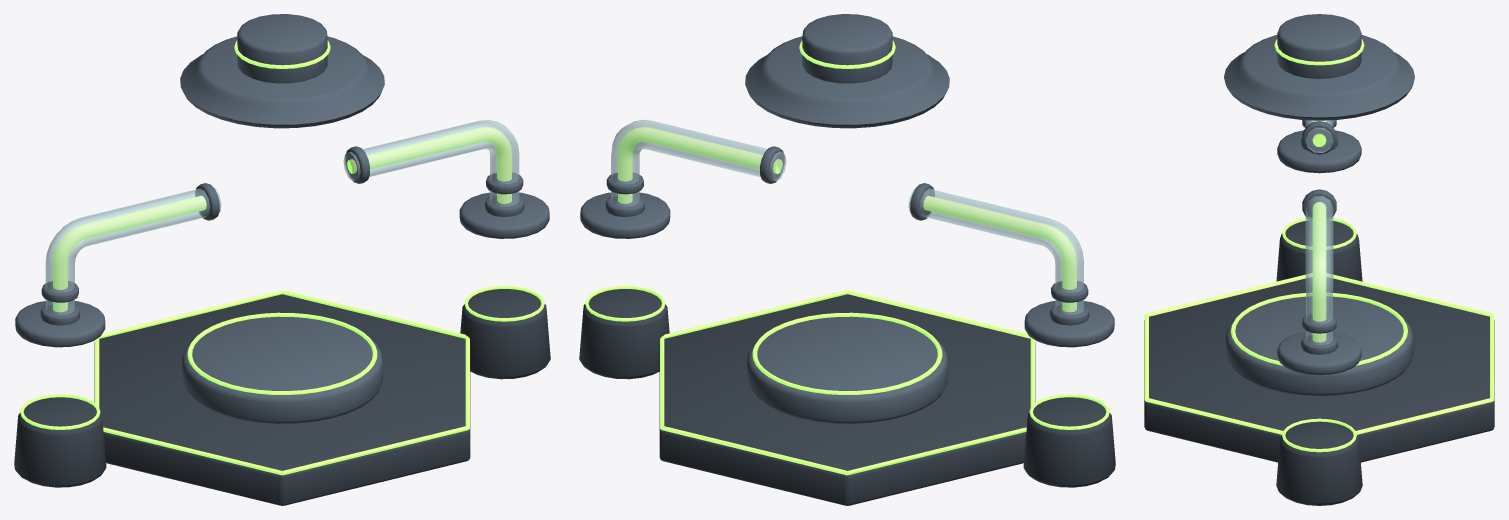
The model's file is MaquinaEquipo.fbx.
3 renders of one model, left to right at view 1: azimuth 30°, elevation 25°; view 2: azimuth 150°, elevation 25°; view 3: azimuth 270°, elevation 25°, orthographic. The views are drawn at different scales.
Parts seen in each view (by area): view 1: MaquinaEquipo_Base, MaquinaEquipo_Metal, MaquinaEquipo_Luces_Neon, MaquinaEquipo_Tubos_Vidrio; view 2: MaquinaEquipo_Base, MaquinaEquipo_Metal, MaquinaEquipo_Luces_Neon, MaquinaEquipo_Tubos_Vidrio; view 3: MaquinaEquipo_Base, MaquinaEquipo_Metal, MaquinaEquipo_Luces_Neon, MaquinaEquipo_Tubos_Vidrio.
Boxes of the visible parts, left/top/right/bottom form: MaquinaEquipo_Base: left=14, top=289, right=550, bottom=505; MaquinaEquipo_Metal: left=15, top=14, right=549, bottom=423; MaquinaEquipo_Luces_Neon: left=20, top=40, right=544, bottom=475; MaquinaEquipo_Tubos_Vidrio: left=45, top=120, right=519, bottom=315; MaquinaEquipo_Base: left=579, top=289, right=1115, bottom=505; MaquinaEquipo_Metal: left=580, top=14, right=1114, bottom=423; MaquinaEquipo_Luces_Neon: left=585, top=40, right=1109, bottom=475; MaquinaEquipo_Tubos_Vidrio: left=611, top=119, right=1083, bottom=315; MaquinaEquipo_Base: left=1144, top=220, right=1494, bottom=505; MaquinaEquipo_Metal: left=1224, top=14, right=1414, bottom=395; MaquinaEquipo_Luces_Neon: left=1144, top=39, right=1494, bottom=452; MaquinaEquipo_Tubos_Vidrio: left=1305, top=120, right=1333, bottom=345.
Size of the model in its own units: 30.7 by 21.5 by 19.05.
